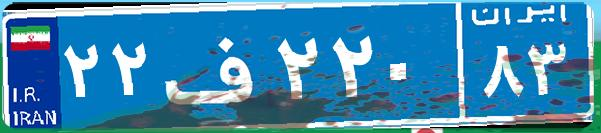0: (385, 28, 445, 110)
2: (273, 28, 330, 110), (330, 28, 385, 110), (57, 26, 110, 107), (110, 28, 158, 105)
3: (525, 38, 570, 115)
8: (475, 38, 525, 113)
ف: (158, 15, 273, 115)
